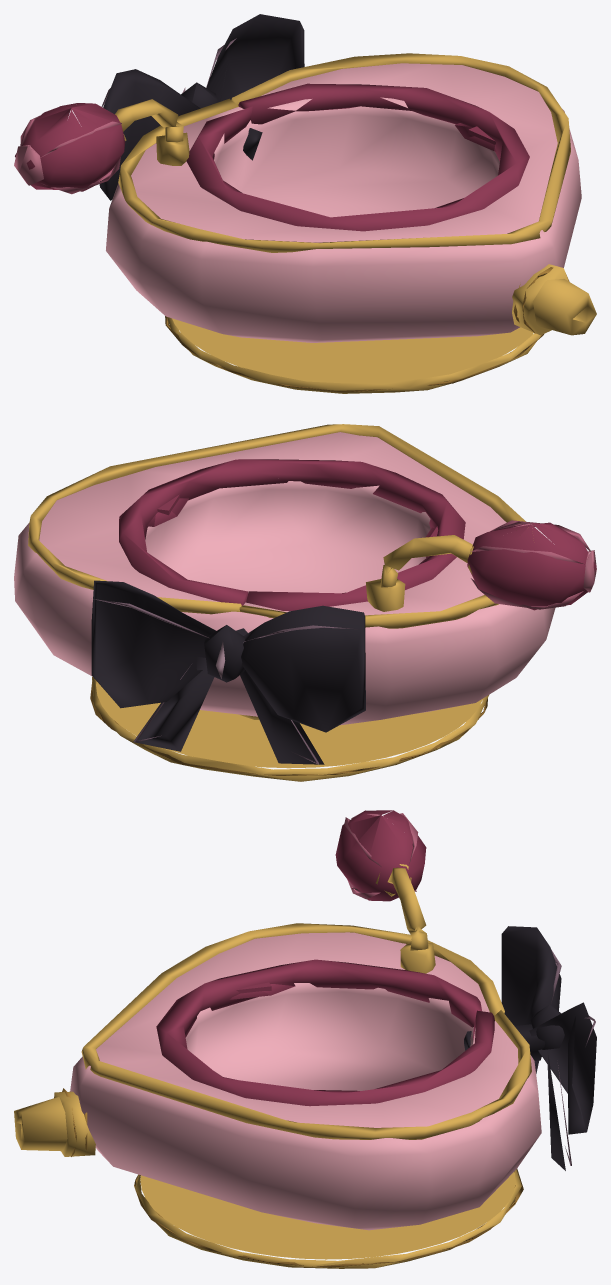
Rendered from kart.body.lovebomb.lod1.glb.
3 views of the same model, one above another, from view 1: azimuth 30°, elevation 25°; view 2: azimuth 150°, elevation 25°; view 3: azimuth 270°, elevation 25° (orthographic). The views are drawn at different scales.
Visible parts, largest first — view 1: emi_vehicle_lovebomb; view 2: emi_vehicle_lovebomb; view 3: emi_vehicle_lovebomb.
Part boxes in pixels (x1,y1,x2,y2): emi_vehicle_lovebomb: (14,14,596,393); emi_vehicle_lovebomb: (14,424,596,781); emi_vehicle_lovebomb: (14,810,596,1268).
Size of the model in its own units: 0.5087 by 0.2282 by 0.4788.
